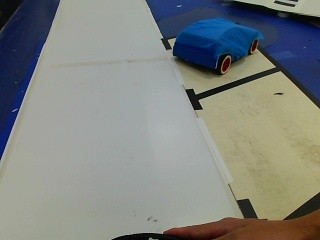car: (170, 16, 260, 75)
